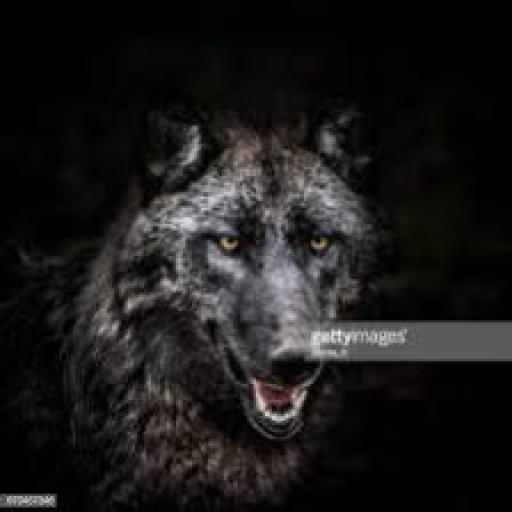wolf: (44, 96, 481, 512)
